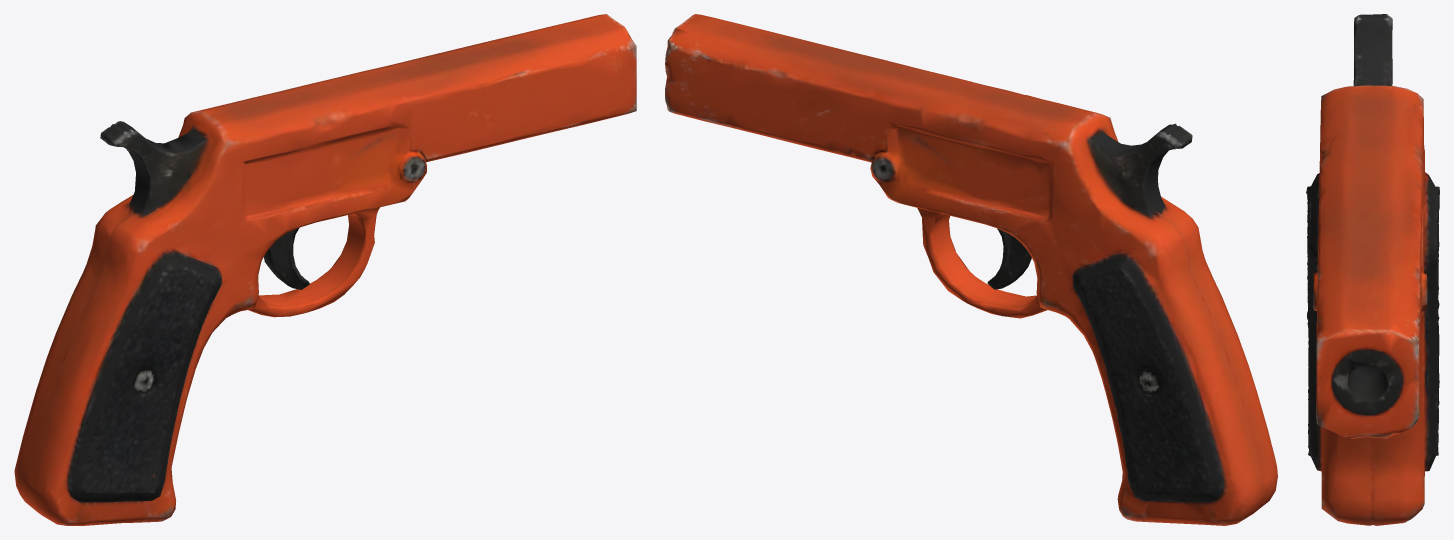
Rendered from flare_gun.8d45775134.glb.
3 renders of one model, left to right at view 1: azimuth 30°, elevation 25°; view 2: azimuth 150°, elevation 25°; view 3: azimuth 270°, elevation 25°, orthographic. The views are drawn at different scales.
Parts seen in each view (by area): view 1: base; view 2: base; view 3: base.
Part boxes in pixels (x1=…): base: x1=14, y1=14, x2=636, y2=525; base: x1=665, y1=14, x2=1277, y2=525; base: x1=1306, y1=14, x2=1439, y2=525.
Size of the model in its own units: 0.2196 by 0.1409 by 0.0348.
Materials: 1 (1 with a texture image).
